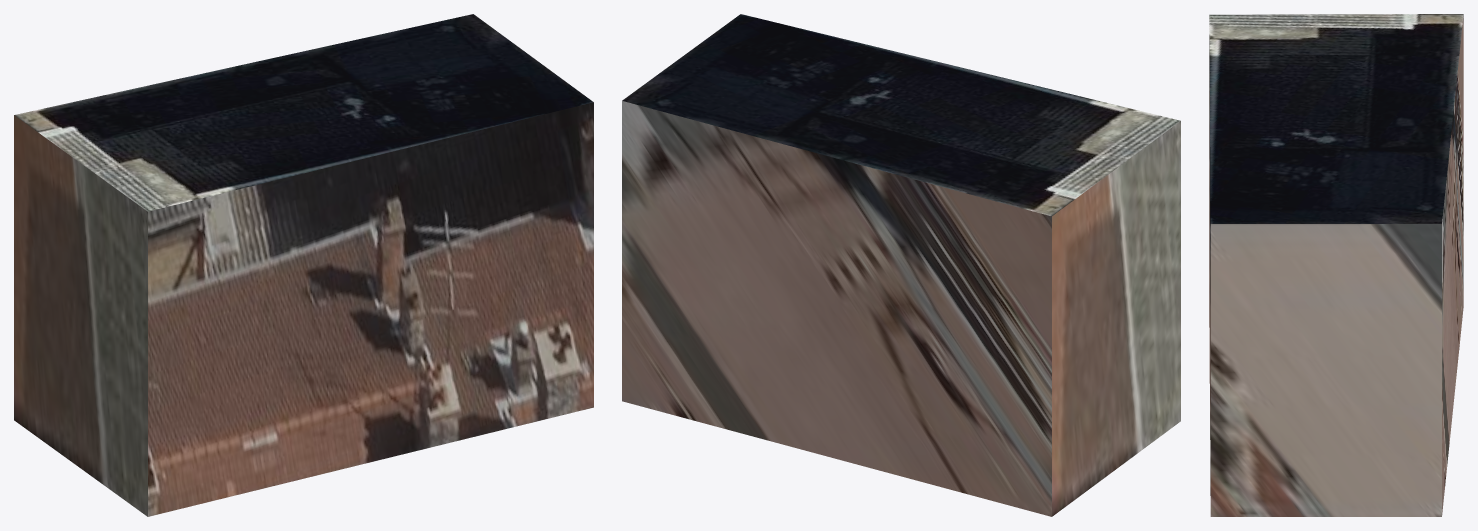
3 renders of one model, left to right at view 1: azimuth 30°, elevation 25°; view 2: azimuth 150°, elevation 25°; view 3: azimuth 270°, elevation 25°, orthographic. The views are drawn at different scales.
Parts seen in each view (by area): view 1: Z_UP; view 2: Z_UP; view 3: Z_UP.
Part boxes in pixels (left/top/right/bottom): Z_UP: left=14, top=14, right=593, bottom=516; Z_UP: left=622, top=14, right=1180, bottom=516; Z_UP: left=1209, top=14, right=1463, bottom=516.
Size of the model in its own units: 13.19 by 8.59 by 6.75.
Materials: 2 (1 with a texture image).
